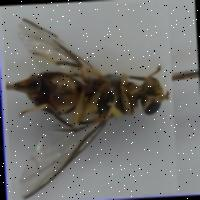Oriental-fruit-fly: (1, 0, 177, 200)
